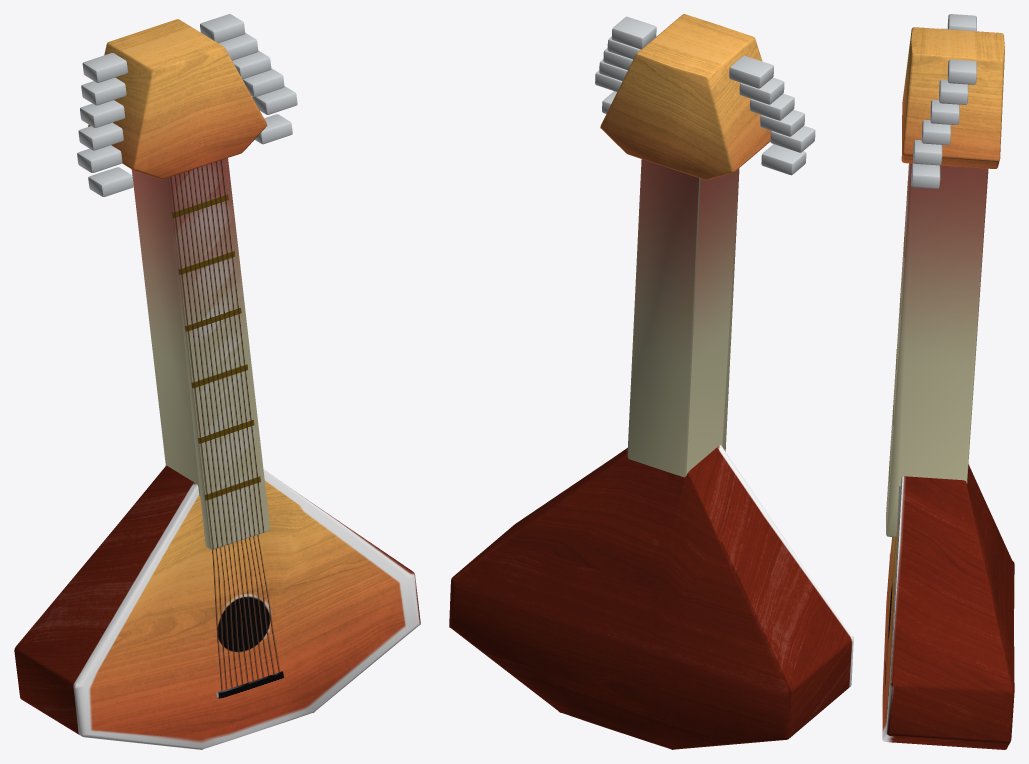
File: T3-3_bandola 1.fbx
The picture shows the model from 3 angles, left to right: view 1: azimuth 30°, elevation 25°; view 2: azimuth 150°, elevation 25°; view 3: azimuth 270°, elevation 25°; orthographic projection. The views are drawn at different scales.
Visible parts, largest first — view 1: Mesh; view 2: Mesh; view 3: Mesh.
Part boxes in pixels (x1,y1,x2,y2): Mesh: (14, 14, 420, 749); Mesh: (449, 14, 853, 749); Mesh: (882, 14, 1014, 749).
Size of the model in its own units: 101 by 194 by 34.66.
